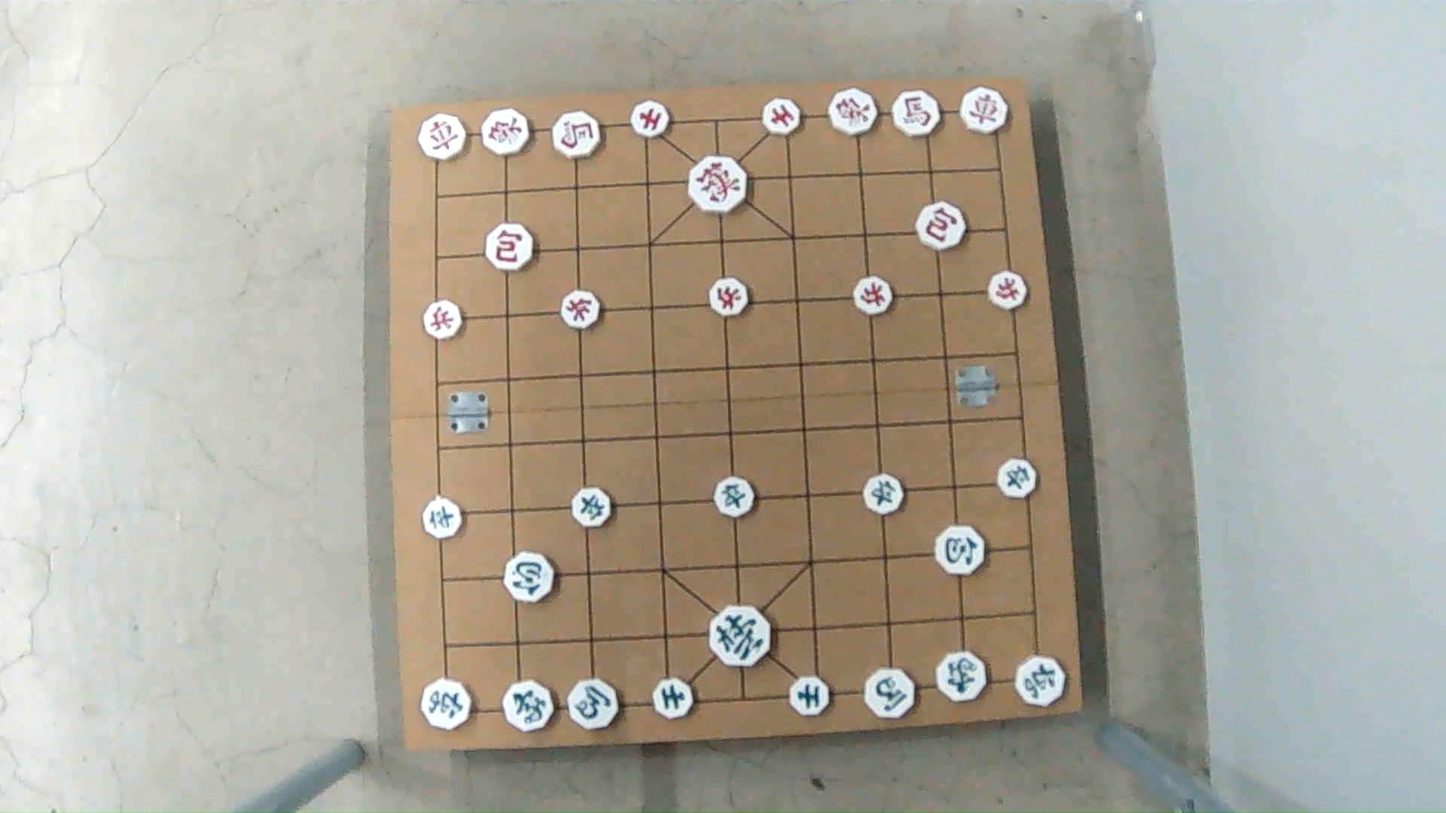cha_green: (1015, 659, 1072, 705), (420, 684, 476, 730)
cha_red: (956, 91, 1011, 135), (415, 116, 467, 160)
jol_green: (860, 475, 905, 512), (712, 478, 757, 515), (996, 463, 1042, 499), (571, 490, 616, 526), (421, 502, 466, 538)
jol_red: (705, 279, 749, 315), (557, 291, 601, 327), (421, 303, 465, 338), (853, 277, 897, 312), (987, 274, 1030, 307)
ma_green: (563, 682, 621, 729), (865, 669, 920, 717)
ma_red: (550, 115, 603, 160), (892, 96, 944, 138)
po_green: (500, 557, 557, 602), (935, 528, 990, 574)
po_red: (917, 205, 969, 248), (484, 226, 535, 269)
sa_green: (649, 678, 694, 717), (789, 679, 831, 717)
sa_red: (630, 103, 671, 138), (761, 101, 804, 133)
sang_green: (502, 684, 559, 731), (936, 653, 987, 703)
sang_red: (825, 93, 877, 137), (478, 113, 532, 155)
wang_green: (706, 610, 771, 666)
wang_red: (688, 160, 752, 213)
